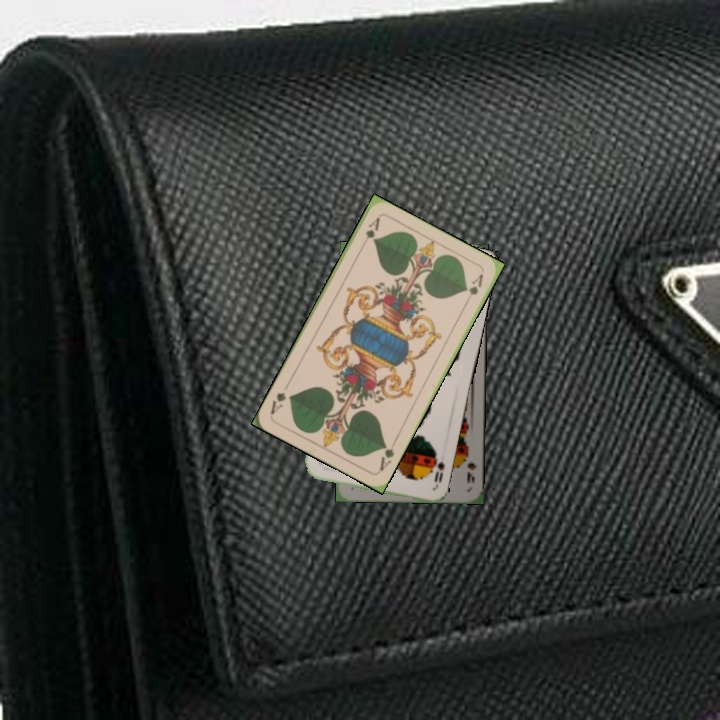GA: (375, 436, 399, 474), (361, 213, 383, 241)
S9: (460, 447, 479, 486)
SO: (428, 448, 447, 489)
